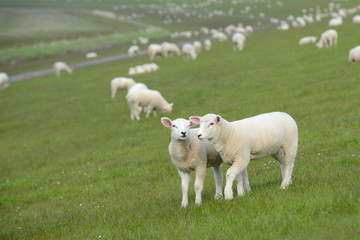sheep: (195, 113, 298, 192), (162, 112, 224, 199), (127, 90, 175, 131), (312, 24, 342, 54), (107, 70, 140, 97), (179, 41, 204, 65), (159, 40, 186, 60), (126, 61, 155, 79), (230, 29, 248, 56), (143, 39, 165, 60), (207, 28, 227, 50), (293, 11, 313, 33), (54, 59, 76, 77), (346, 40, 360, 68), (294, 32, 314, 48), (329, 11, 345, 29), (273, 19, 294, 32), (86, 47, 97, 58), (351, 12, 359, 27), (1, 75, 8, 88)
